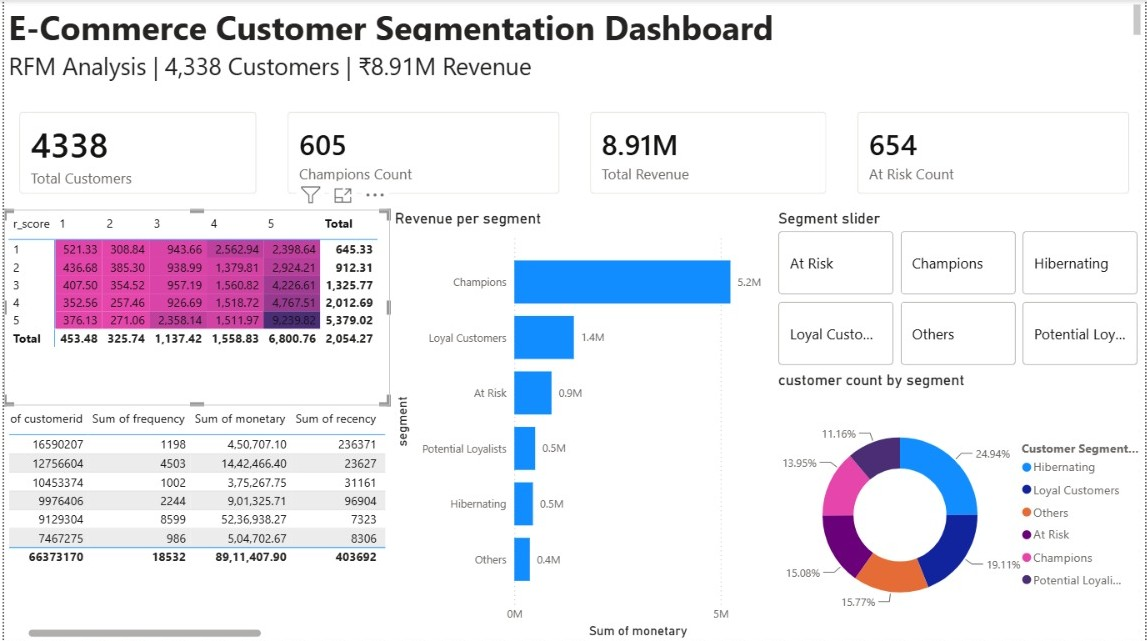

The dashboard page shown, as its layout file describes it:
{"tool":"powerbi","page":{"name":"Page 1","canvas":[1280,720],"ordinal":0},"visuals":[{"type":"cardVisual","fields":{"Data":["Count(powerbi_rfm.customerid)"]},"box":[0,108.2,300.9,126.8],"z":0},{"type":"cardVisual","fields":{"Data":["Sum(powerbi_rfm.monetary)"]},"box":[640.7,108.2,299.2,126.8],"z":1000},{"type":"cardVisual","fields":{"Data":["powerbi_rfm.Champions Count"]},"box":[300.9,108.2,339.8,126.8],"z":2000},{"type":"donutChart","title":"customer count by segment","fields":{"Category":["powerbi_rfm.segment"],"Y":["Count(powerbi_rfm.customerid)"]},"box":[863.9,415.9,415.9,304.3],"z":3000},{"type":"clusteredBarChart","title":"Revenue per segment","fields":{"Category":["powerbi_rfm.segment"],"Y":["Sum(powerbi_rfm.monetary)"]},"box":[432.8,235,431.1,485.2],"z":4000},{"type":"cardVisual","fields":{"Data":["powerbi_rfm.At Risk Count"]},"box":[939.9,108.2,339.8,126.8],"z":5000},{"type":"textbox","box":[0,0,1279.7,50.7],"z":6000},{"type":"textbox","box":[0,50.7,1279.7,57.5],"z":7000},{"type":"pivotTable","fields":{"Rows":["powerbi_rfm.r_score"],"Columns":["powerbi_rfm.f_score"],"Values":["Avg(powerbi_rfm.monetary)"]},"box":[0,235,432.8,219.8],"z":8000},{"type":"tableEx","fields":{"Values":["Sum(powerbi_rfm.customerid)","Sum(powerbi_rfm.frequency)","Sum(powerbi_rfm.monetary)","Sum(powerbi_rfm.recency)","Sum(powerbi_rfm.rfm_score)","powerbi_rfm.segment"]},"box":[0,454.8,432.8,265.4],"z":9000},{"type":"advancedSlicerVisual","title":"Segment slider","fields":{"Values":["powerbi_rfm.segment"]},"box":[863.9,235,415.9,180.9],"z":10000}]}

Visuals, with their boxes in screenshot pixels (x1, y1, x2, y2), scaled from the page's 1280x720 canvas onto the 1147x641 screenshot:
cardVisual - Count(powerbi_rfm.customerid): rect(0, 96, 270, 209)
cardVisual - Sum(powerbi_rfm.monetary): rect(574, 96, 842, 209)
cardVisual - powerbi_rfm.Champions Count: rect(270, 96, 574, 209)
"customer count by segment" donutChart: rect(774, 370, 1146, 640)
"Revenue per segment" clusteredBarChart: rect(388, 209, 774, 640)
cardVisual - powerbi_rfm.At Risk Count: rect(842, 96, 1146, 209)
textbox: rect(0, 0, 1146, 45)
textbox: rect(0, 45, 1146, 96)
pivotTable - powerbi_rfm.r_score x powerbi_rfm.f_score: rect(0, 209, 388, 405)
tableEx - Sum(powerbi_rfm.customerid) x Sum(powerbi_rfm.frequency): rect(0, 405, 388, 640)
"Segment slider" advancedSlicerVisual: rect(774, 209, 1146, 370)
